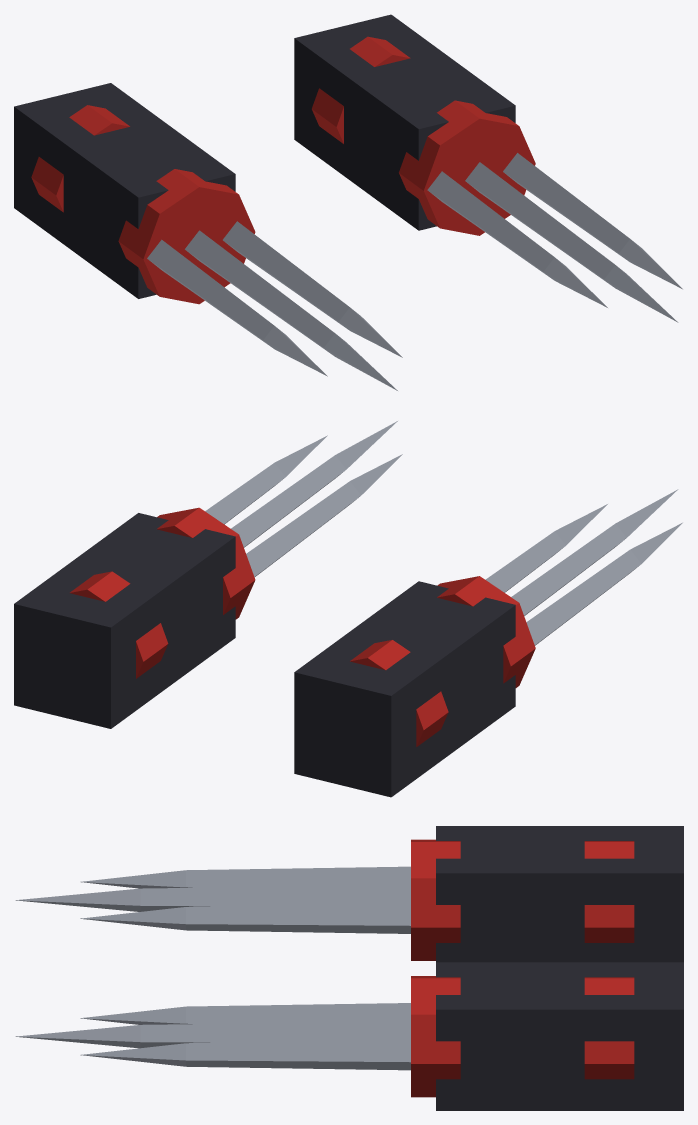
Rendered from 16_Twin_Claws.glb.
3 views of the same model, one above another, from view 1: azimuth 30°, elevation 25°; view 2: azimuth 150°, elevation 25°; view 3: azimuth 270°, elevation 25° (orthographic).
Parts seen in each view (by area): view 1: 16_Twin_Claws; view 2: 16_Twin_Claws; view 3: 16_Twin_Claws.
Boxes of the visible parts, left/top/right/bottom form: 16_Twin_Claws: left=14, top=14, right=682, bottom=390; 16_Twin_Claws: left=14, top=421, right=682, bottom=797; 16_Twin_Claws: left=15, top=826, right=683, bottom=1110.
Bounding box in the file's own units: 0.364 × 0.104 × 0.54.
